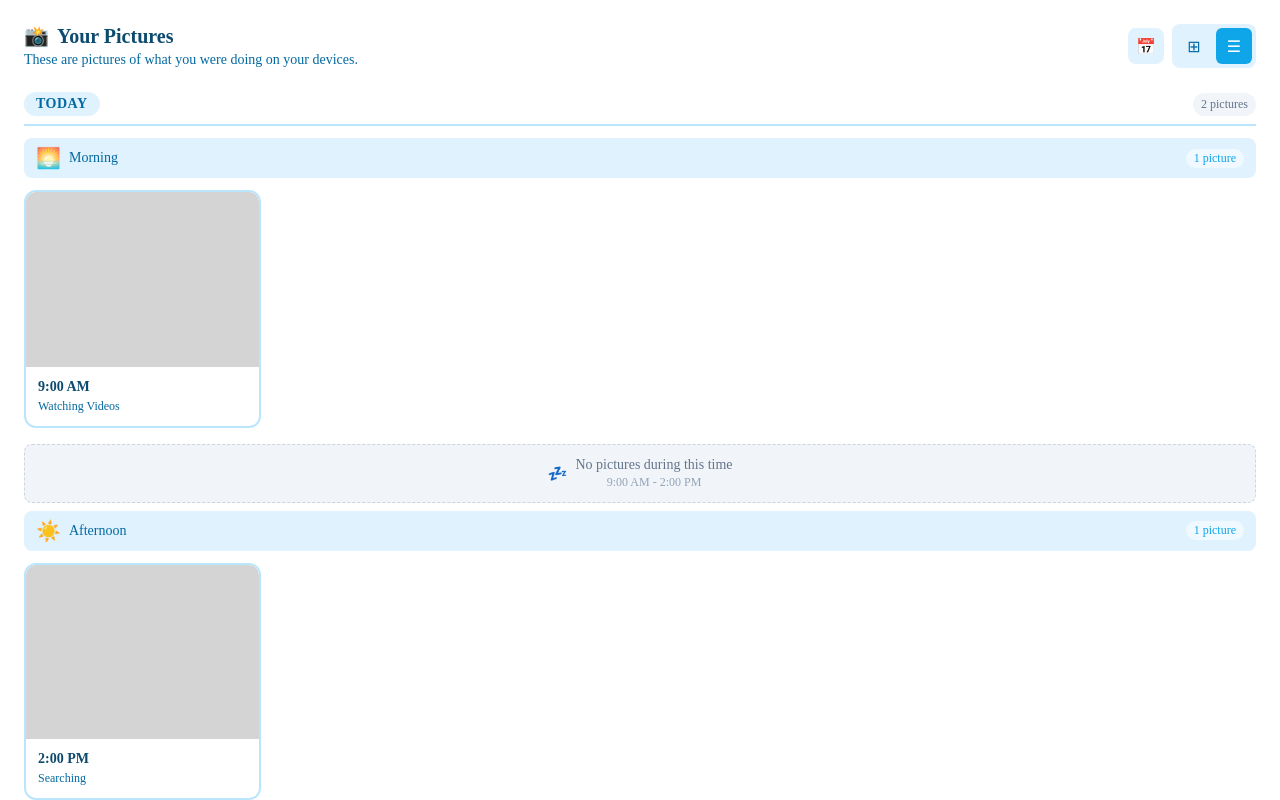
Test: ChildScreenshotGallery › Story 19B.2 - Date Navigation (AC: #4) › should close date picker when close button is clicked
Click the button with test id "calendar-button".
click(1146, 46)  # box [1128,28,1164,64]
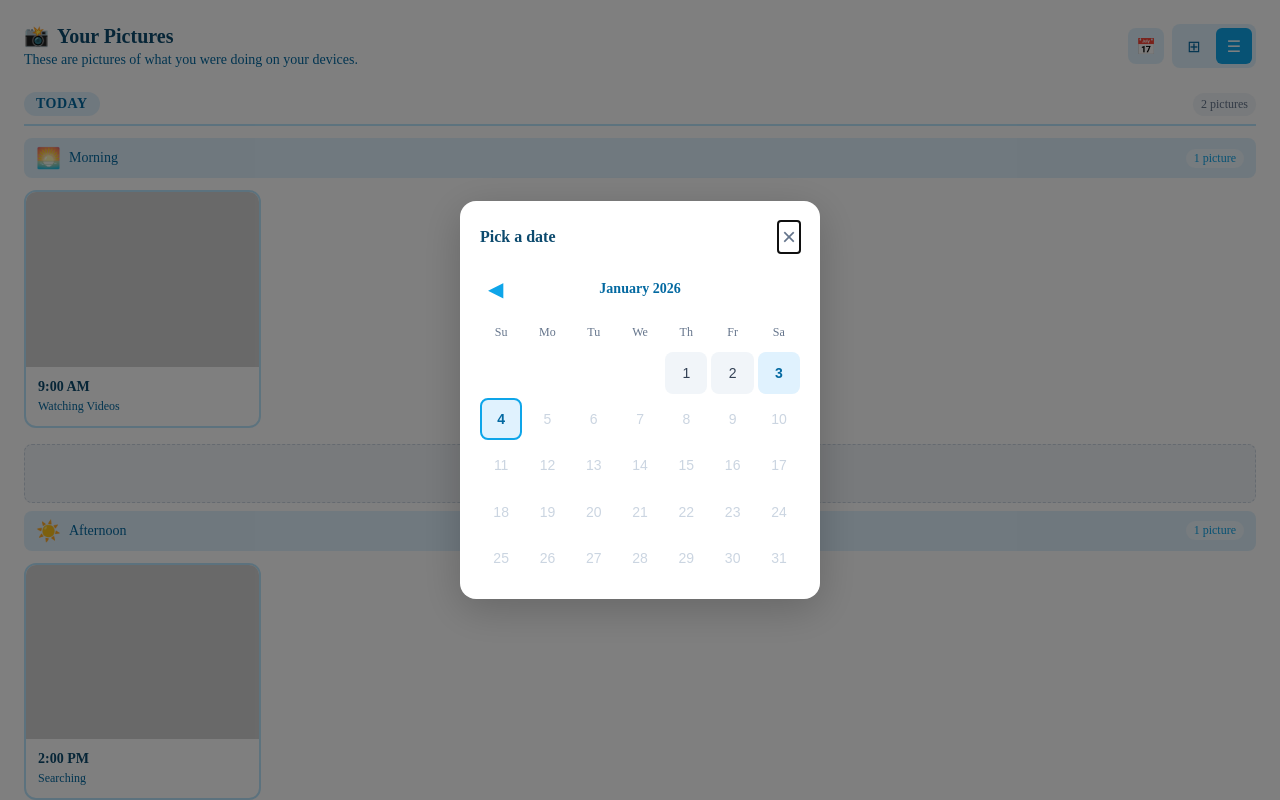
Click the button with test id "date-picker-close".
click(789, 237)  # box [778,221,800,253]
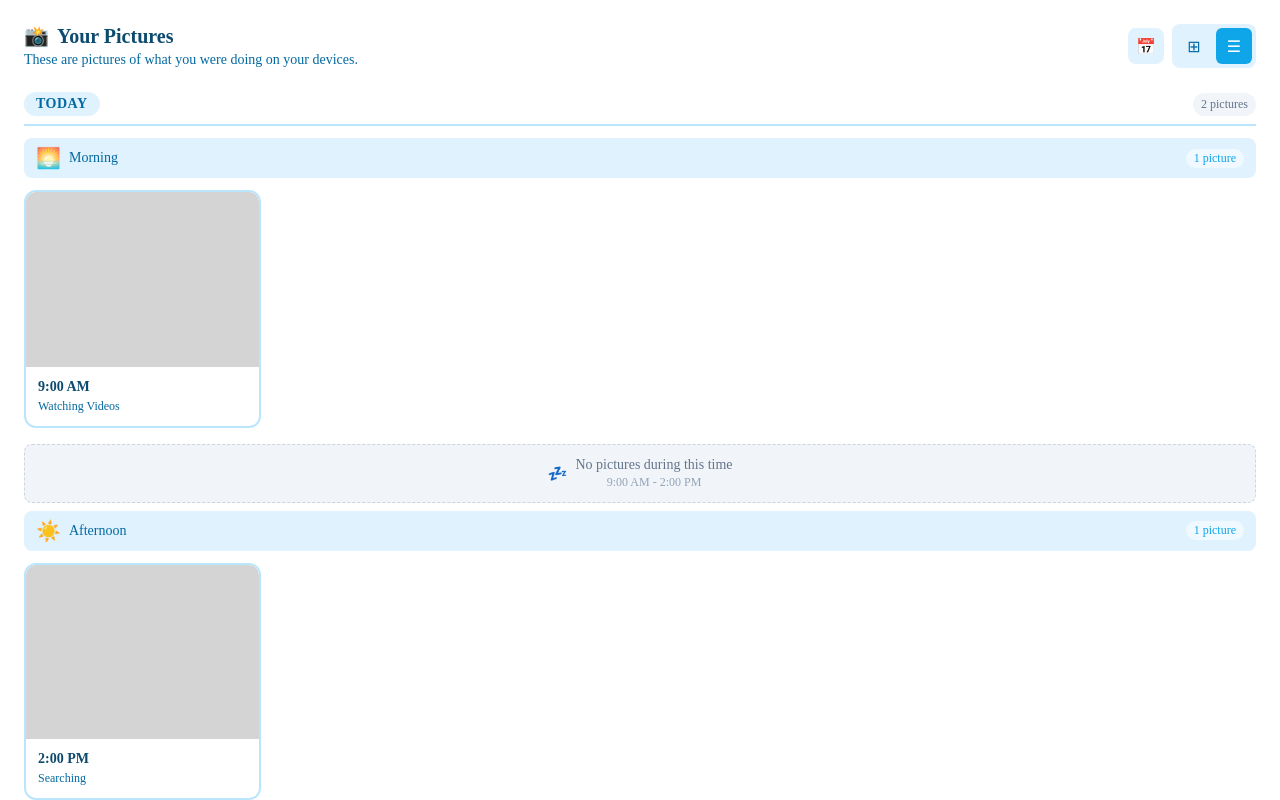
Expected: the dialog with test id "date-picker-modal" is gone
